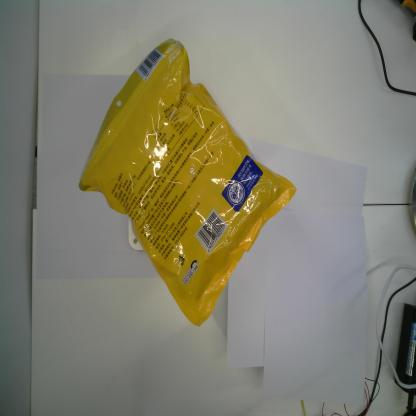Dried Food: (77, 37, 298, 327)
